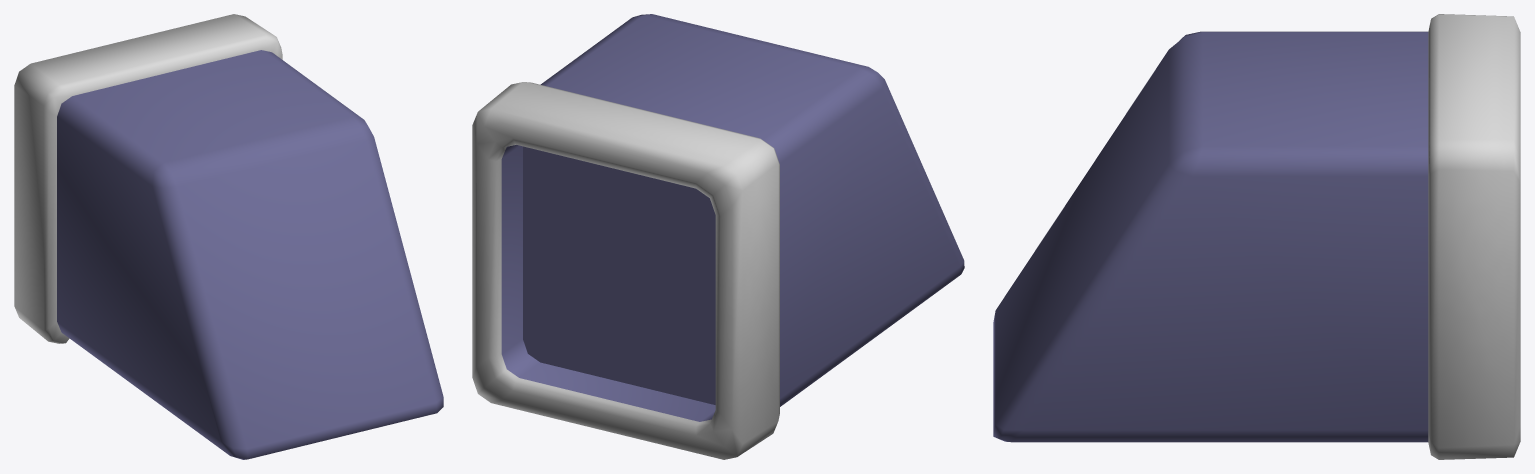
The model's file is Garage.fbx.
The picture shows the model from 3 angles, left to right: view 1: azimuth 30°, elevation 25°; view 2: azimuth 150°, elevation 25°; view 3: azimuth 270°, elevation 25°; orthographic projection. The views are drawn at different scales.
Visible parts, largest first — view 1: Garage; view 2: Garage; view 3: Garage.
Part boxes in pixels (<box>): Garage: <box>14,14,443,459</box>; Garage: <box>472,14,964,459</box>; Garage: <box>993,14,1520,459</box>.
Size of the model in its own units: 202 by 211 by 314.
